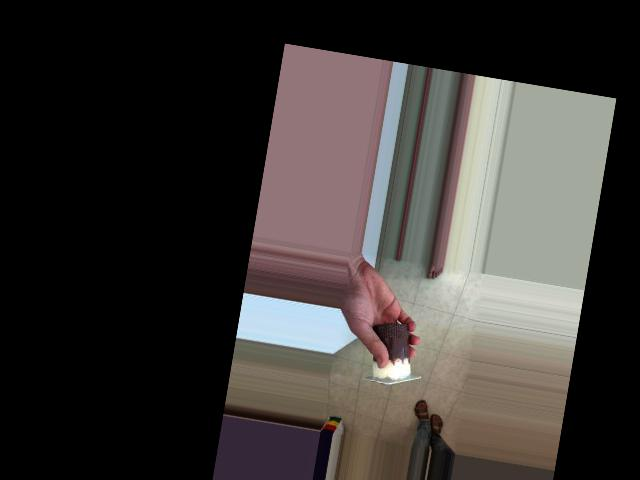milky: (362, 307, 424, 394)
